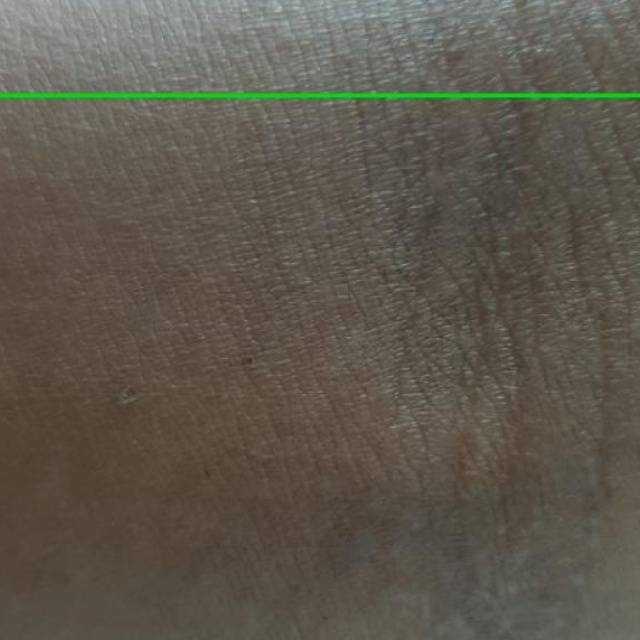Atopic Dermatitis: (0, 0, 639, 95)
